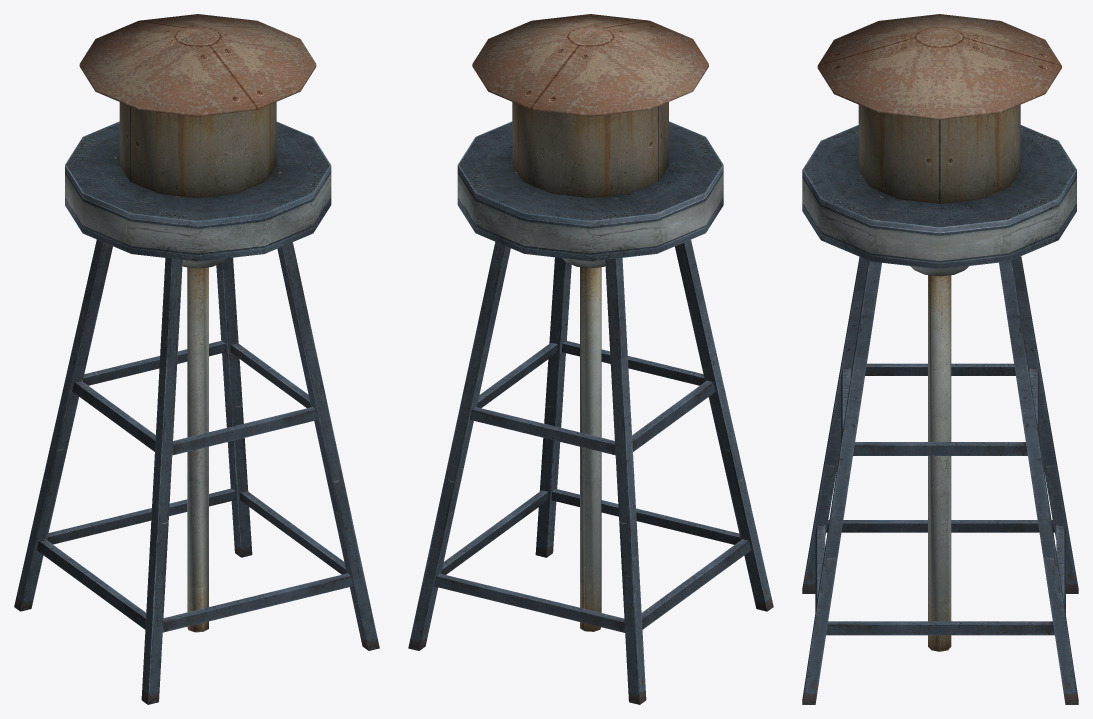
The model's file is Prop_St01_lod1.glb.
The picture shows the model from 3 angles, left to right: view 1: azimuth 30°, elevation 25°; view 2: azimuth 150°, elevation 25°; view 3: azimuth 270°, elevation 25°; orthographic projection. The views are drawn at different scales.
Visible parts, largest first — view 1: xiutz_st_01_lod1; view 2: xiutz_st_01_lod1; view 3: xiutz_st_01_lod1.
Part boxes in pixels (bbox=[...]): xiutz_st_01_lod1: bbox=[14, 14, 379, 704]; xiutz_st_01_lod1: bbox=[408, 14, 773, 704]; xiutz_st_01_lod1: bbox=[802, 14, 1078, 704].
Bounding box in the file's own units: 7.26 × 17.89 × 7.26.
1 material, 1 textured.
